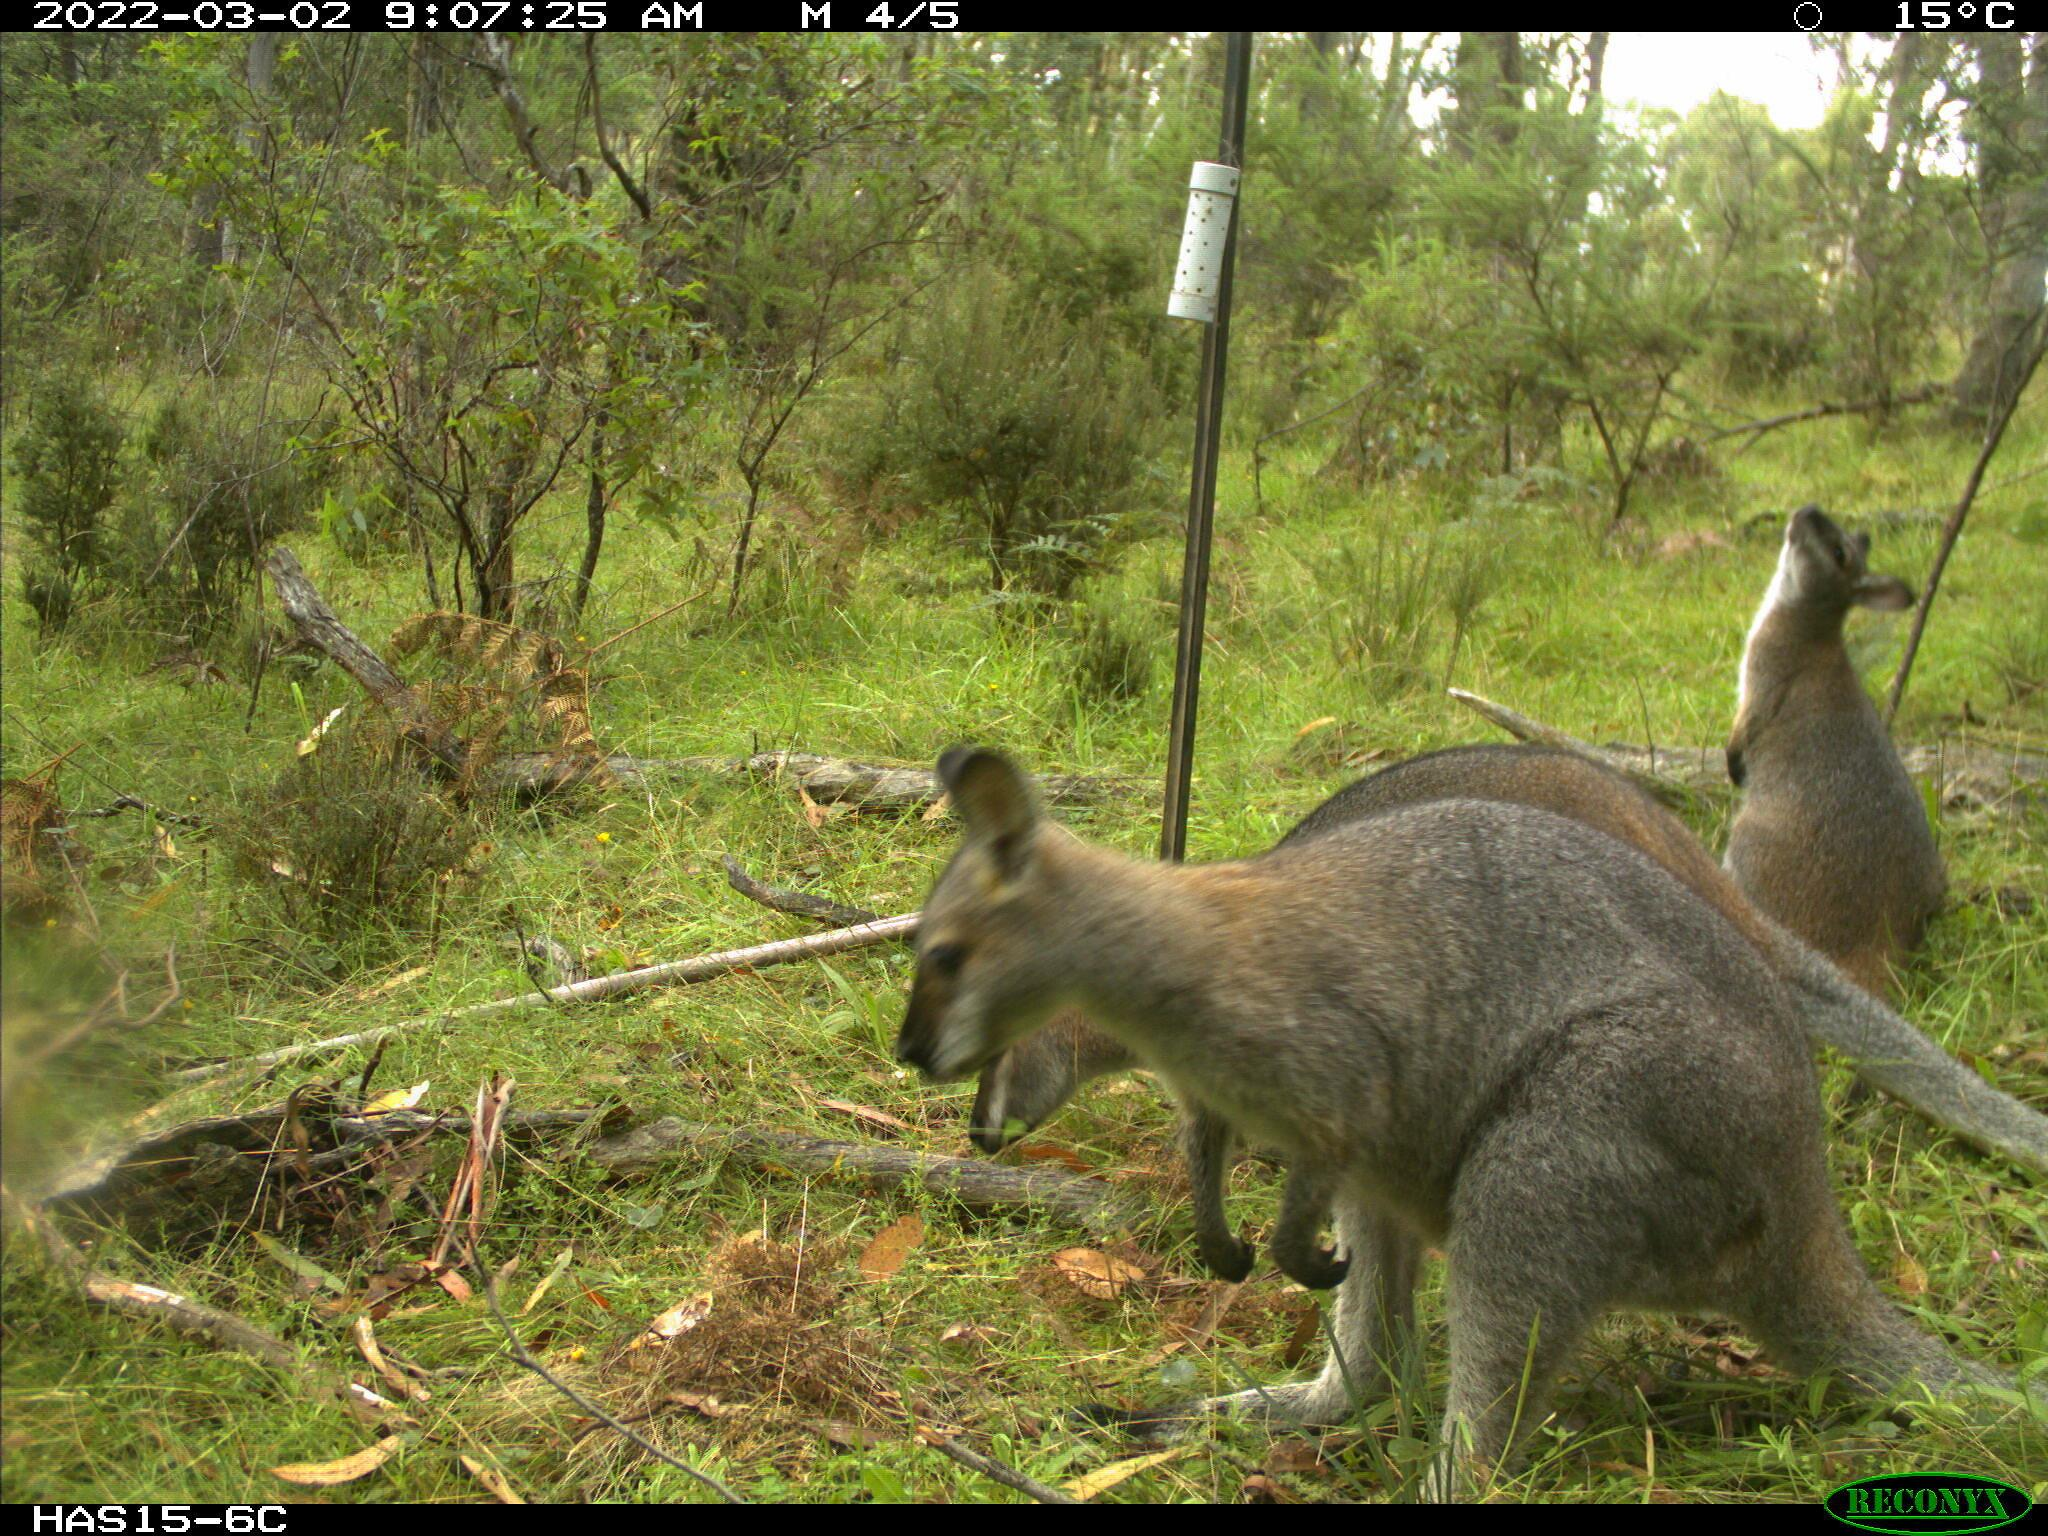Red-necked wallaby: (897, 744, 2048, 1467), (963, 745, 2048, 1200), (1709, 507, 1950, 1008)
